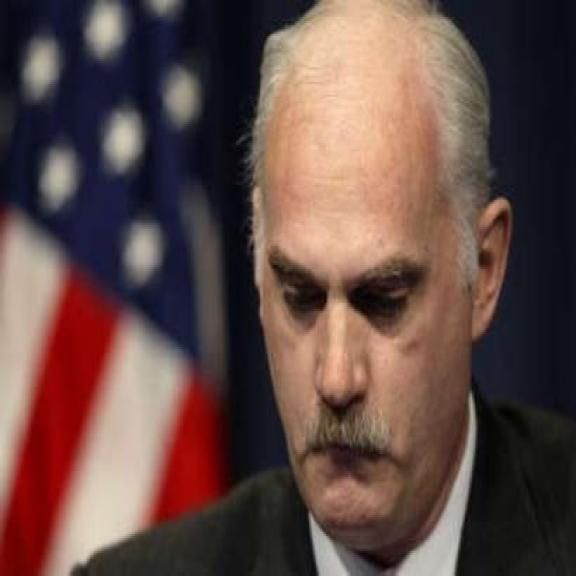face: (259, 17, 514, 554)
